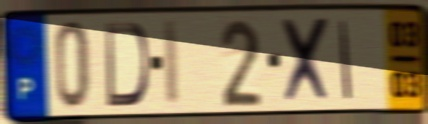0: (52, 18, 96, 112)
2: (219, 14, 265, 110)
D: (103, 20, 152, 109)
I: (161, 18, 182, 109), (337, 17, 354, 102)
X: (279, 14, 334, 107)
